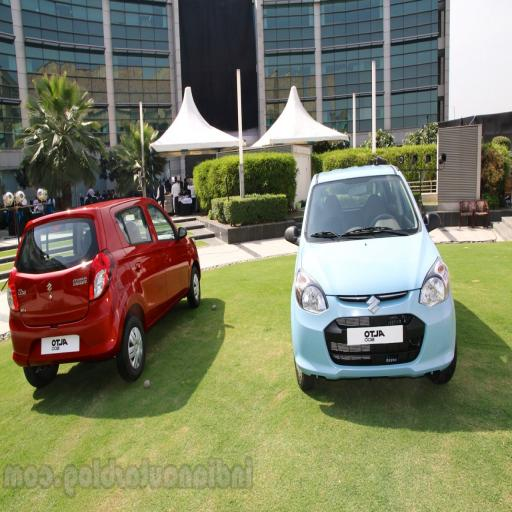License: (342, 321, 406, 350), (37, 331, 82, 355)
